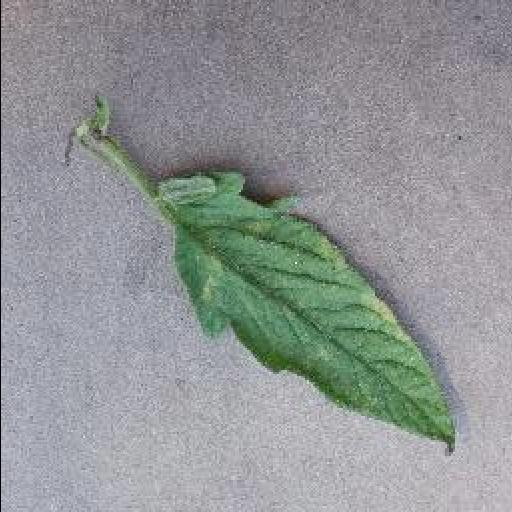disease_tomato: (150, 172, 458, 454)
